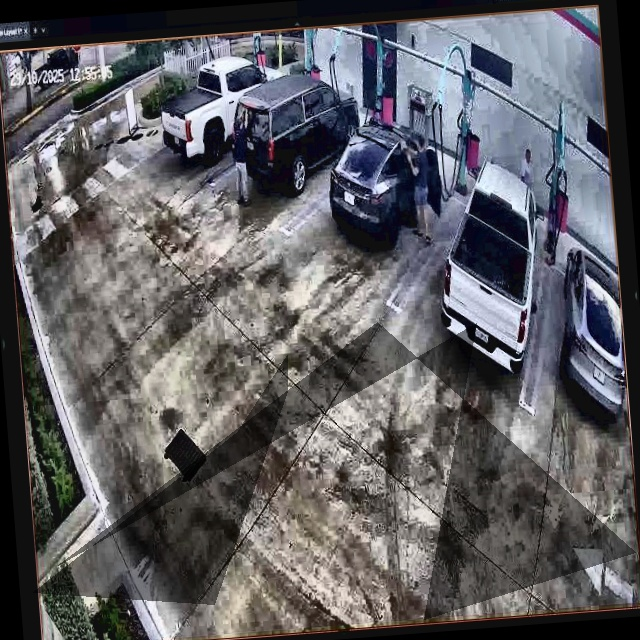Car: (432, 157, 555, 379), (229, 75, 365, 195), (325, 118, 447, 251), (157, 54, 291, 169)
